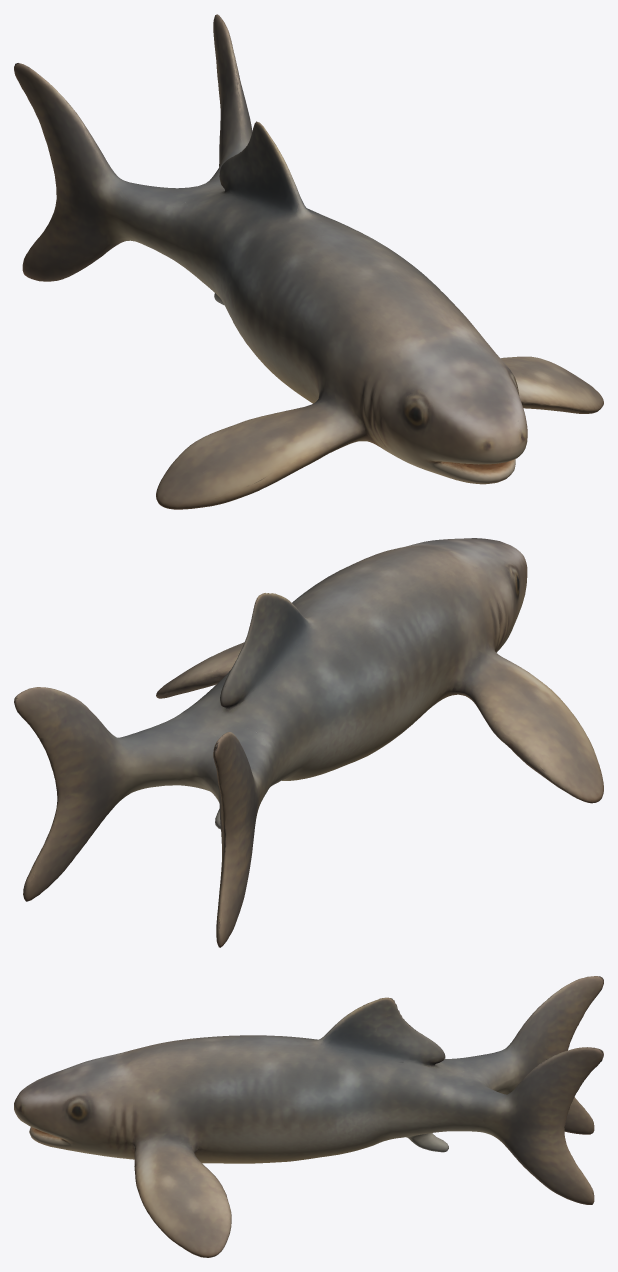
The picture shows the model from 3 angles, top to bottom: view 1: azimuth 30°, elevation 25°; view 2: azimuth 150°, elevation 25°; view 3: azimuth 270°, elevation 25°; orthographic projection. The views are drawn at different scales.
Parts seen in each view (by area): view 1: world; view 2: world; view 3: world.
Part boxes in pixels (x1,y1,x2,y2): world: [14, 14, 603, 509]; world: [14, 538, 603, 947]; world: [14, 976, 603, 1257].
Size of the model in its own units: 0.9647 by 0.5075 by 1.5.
Materials: 1 (1 with a texture image).
